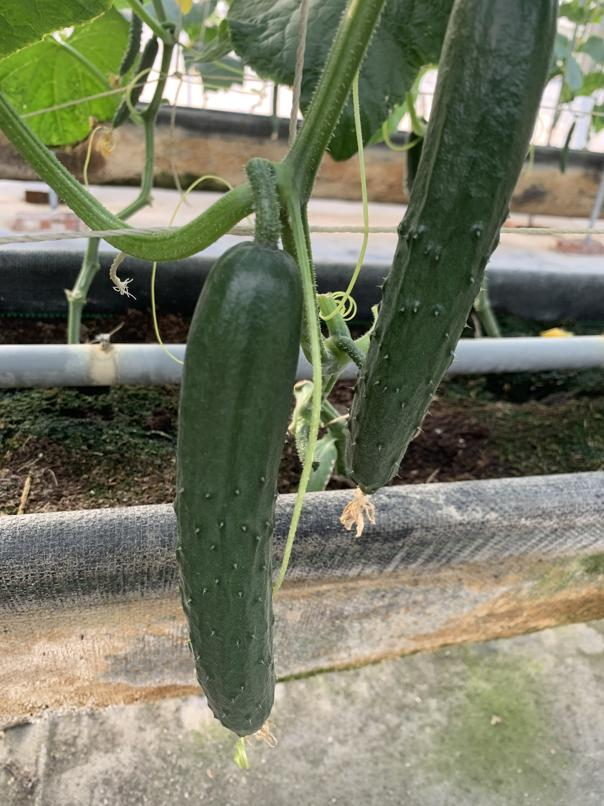bird: (223, 0, 452, 164)
